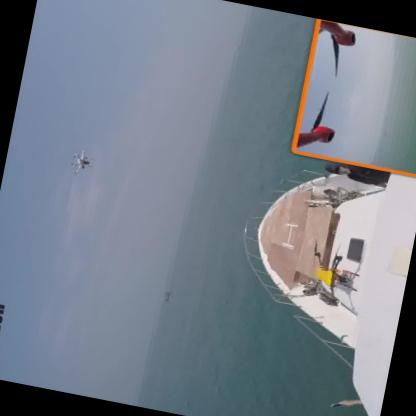drone: (65, 144, 100, 176)
